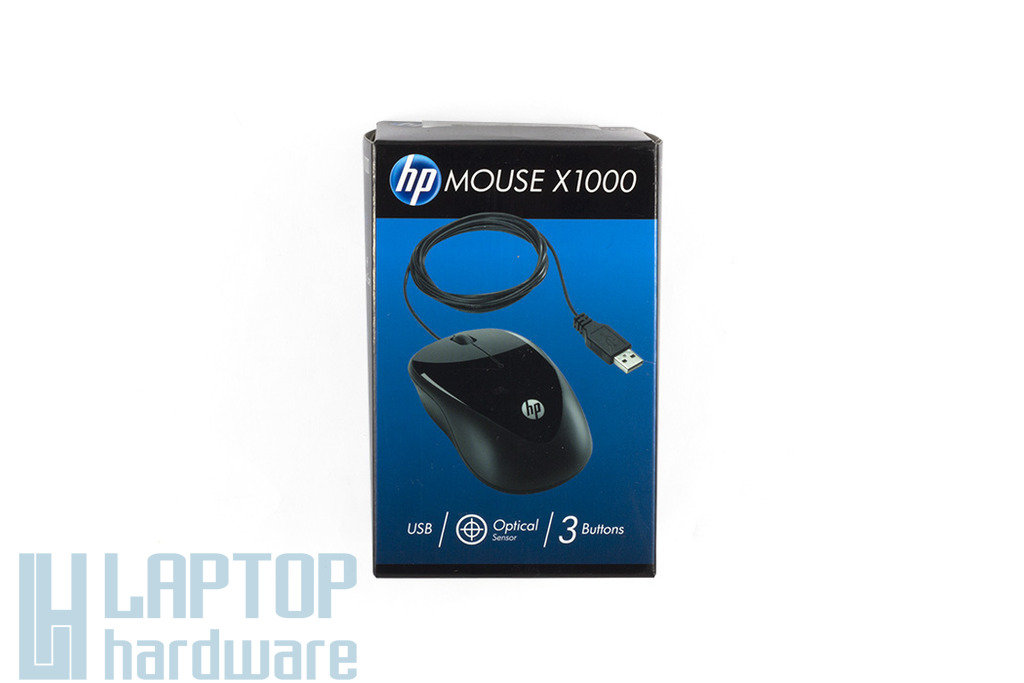hp-mouse-X1000: (404, 218, 653, 498)
